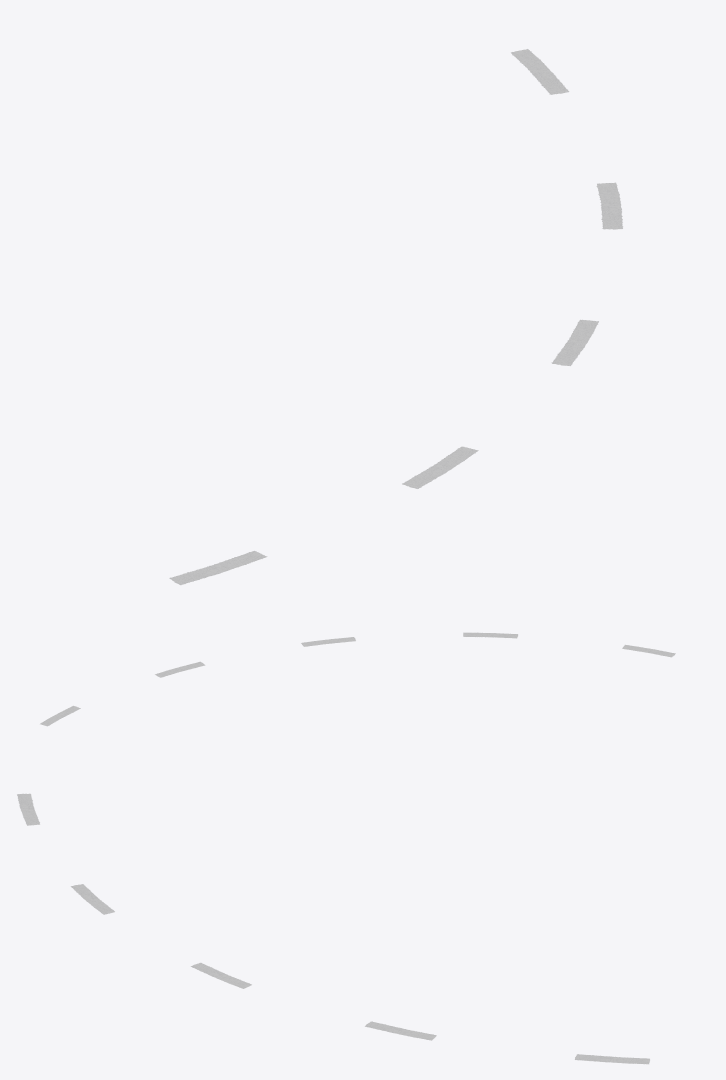
The model's file is Decal_Curve_4LaneShort.glb.
3 renders of one model, top to bottom at view 1: azimuth 30°, elevation 25°; view 2: azimuth 150°, elevation 25°; view 3: azimuth 270°, elevation 25°, orthographic. The views are drawn at different scales.
Parts seen in each view (by area): view 1: Decal_Curve_4LaneShort; view 2: Decal_Curve_4LaneShort; view 3: Decal_Curve_4LaneShort.
Boxes of the visible parts, bbox=[...] form: Decal_Curve_4LaneShort: bbox=[169, 49, 622, 584]; Decal_Curve_4LaneShort: bbox=[40, 632, 675, 726]; Decal_Curve_4LaneShort: bbox=[17, 794, 649, 1064].
Bounding box in the file's own units: 9.1 × 0 × 9.1.
1 material, 1 textured.
